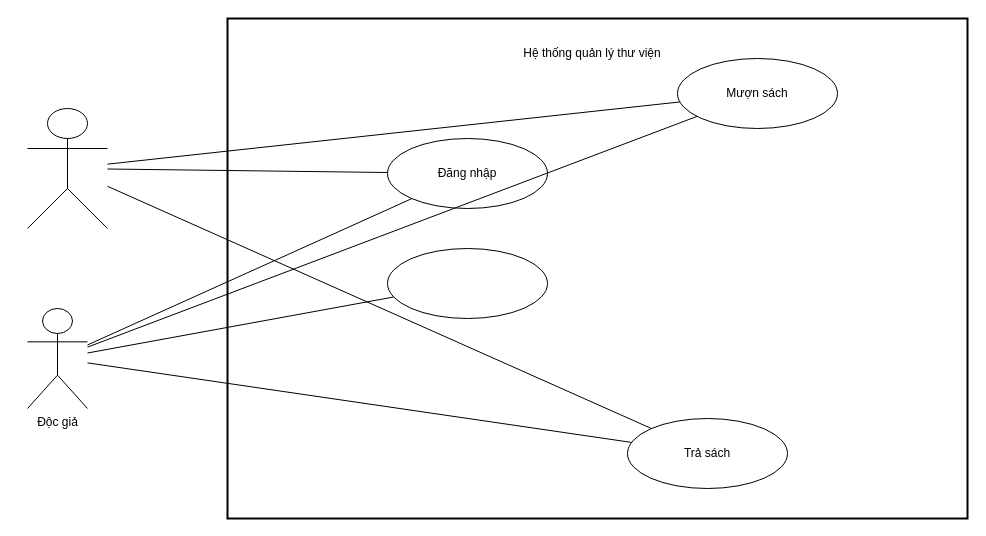
The diagram is 986 pixels wide and 536 high, and some of its shapes have lost their labels. Here are the shapes that lost their labels. From the top down, the box of each, then its label:
(26, 108, 108, 228): Nhân viên thư viện
(386, 248, 548, 318): Tìm sách
